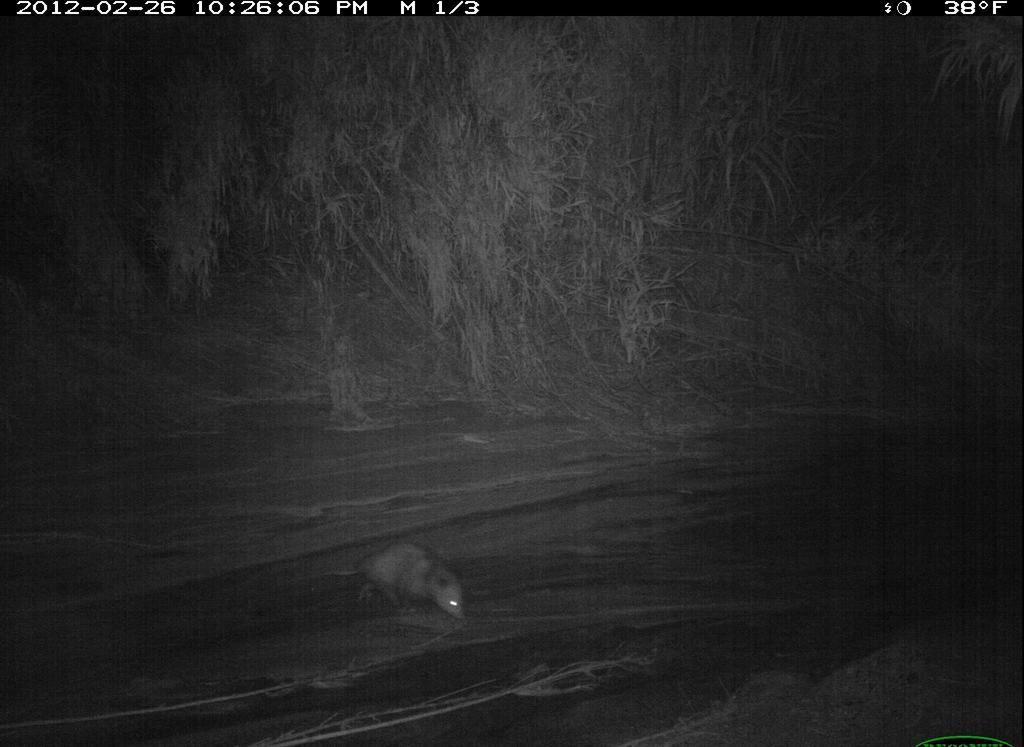opossum: (317, 523, 478, 625)
